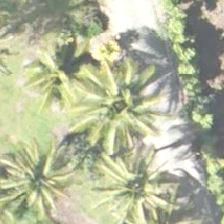Kelapa_Sawit: (66, 64, 156, 154), (0, 135, 84, 223), (93, 148, 184, 223)
